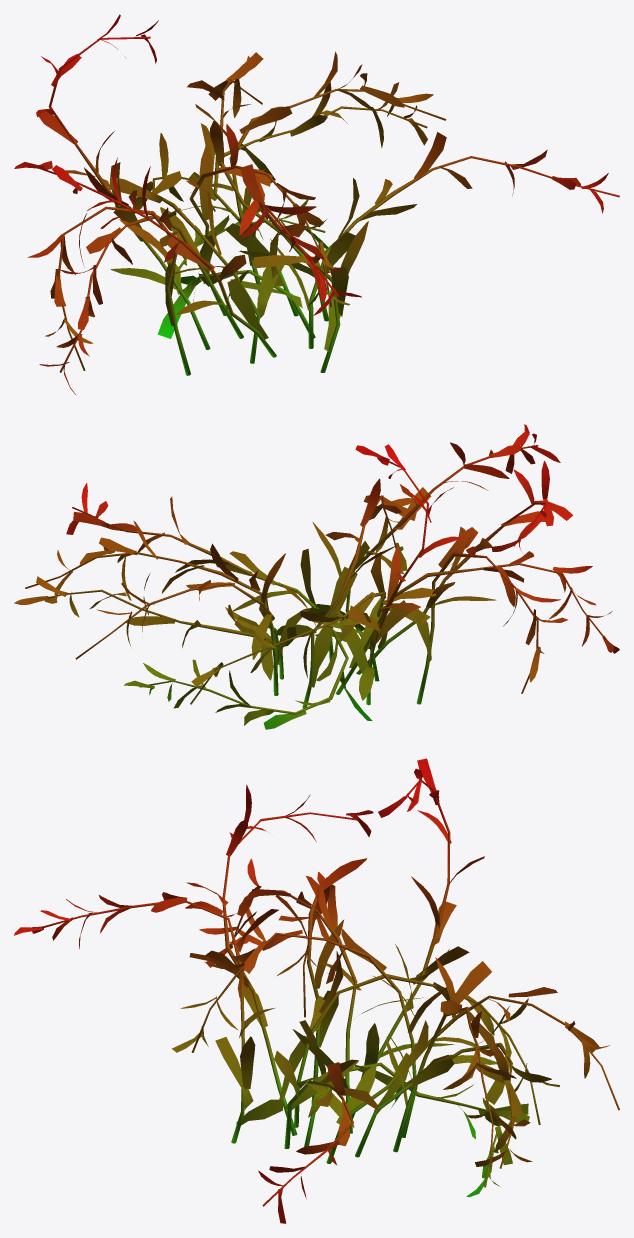
File: Var11_LOD1.fbx
3 views of the same model, one above another, from view 1: azimuth 30°, elevation 25°; view 2: azimuth 150°, elevation 25°; view 3: azimuth 270°, elevation 25° (orthographic). The views are drawn at different scales.
Parts seen in each view (by area): view 1: _7chl_Var11_LOD1; view 2: _7chl_Var11_LOD1; view 3: _7chl_Var11_LOD1.
Part boxes in pixels (left/top/right/bottom): _7chl_Var11_LOD1: left=14, top=14, right=619, bottom=395; _7chl_Var11_LOD1: left=14, top=424, right=619, bottom=729; _7chl_Var11_LOD1: left=14, top=758, right=619, bottom=1223.
Bounding box in the file's own units: 34.41 × 18.23 × 30.51.
